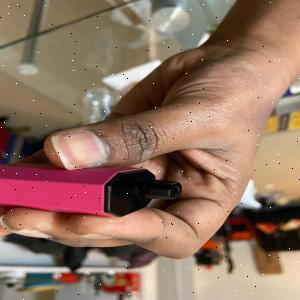Blume-E-Ciggirate: (0, 163, 187, 220)
